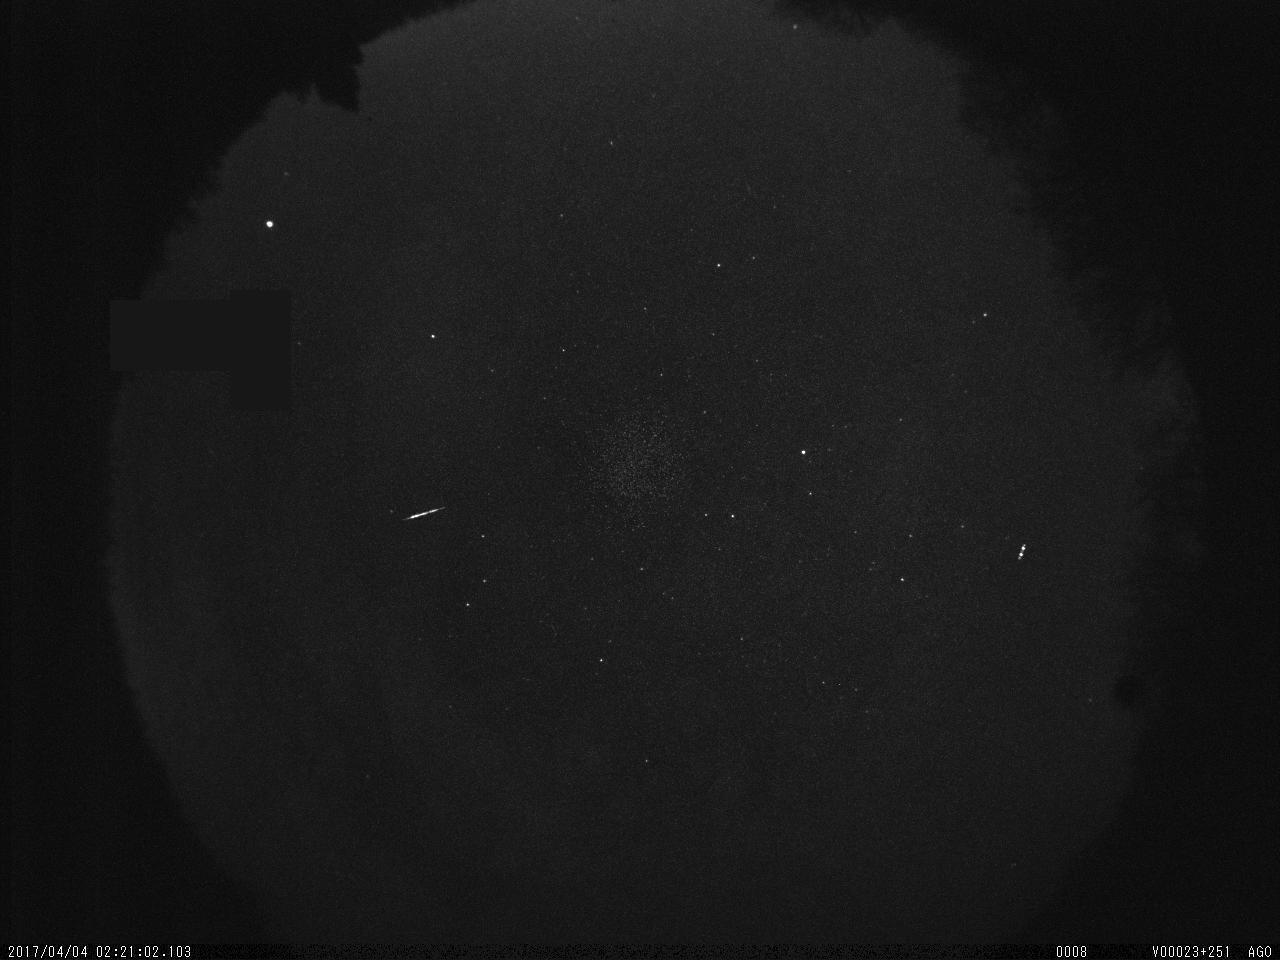meteor: (395, 504, 454, 523)
